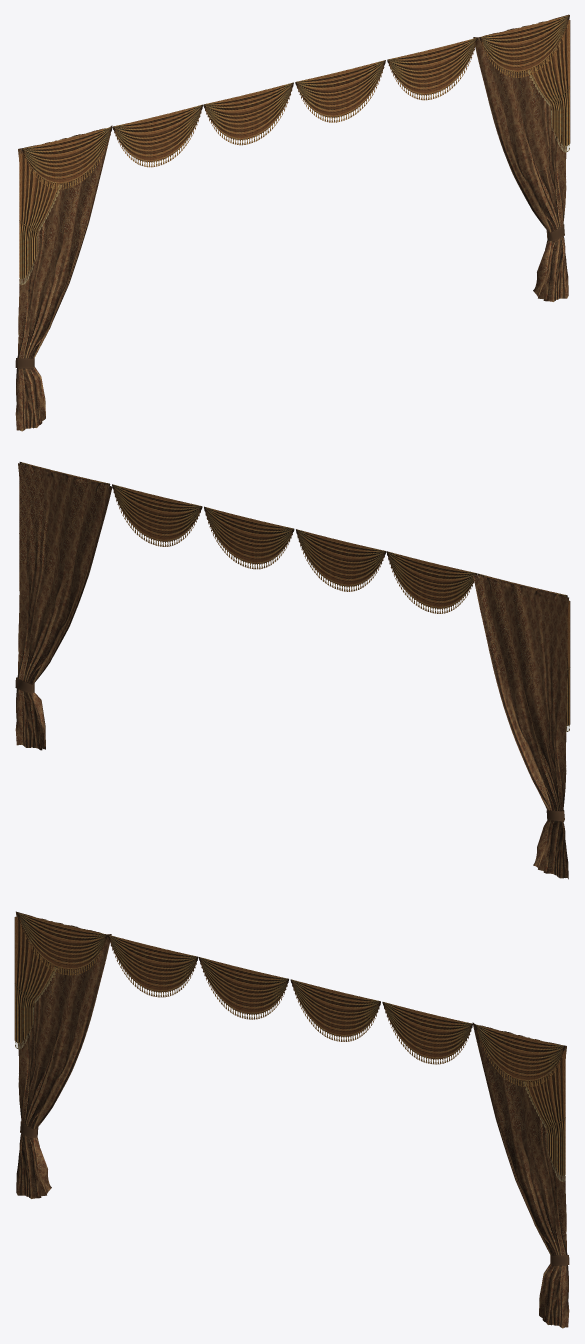
Rendered from Curtain04B.FBX.
The picture shows the model from 3 angles, top to bottom: view 1: azimuth 30°, elevation 25°; view 2: azimuth 150°, elevation 25°; view 3: azimuth 330°, elevation 25°; orthographic projection.
Visible parts, largest first — view 1: Curtain04B; view 2: Curtain04B; view 3: Curtain04B.
Part boxes in pixels (<box>): Curtain04B: <box>15,14,570,431</box>; Curtain04B: <box>15,462,570,879</box>; Curtain04B: <box>14,911,569,1328</box>.
Bounding box in the file's own units: 859 × 21.84 × 420.
